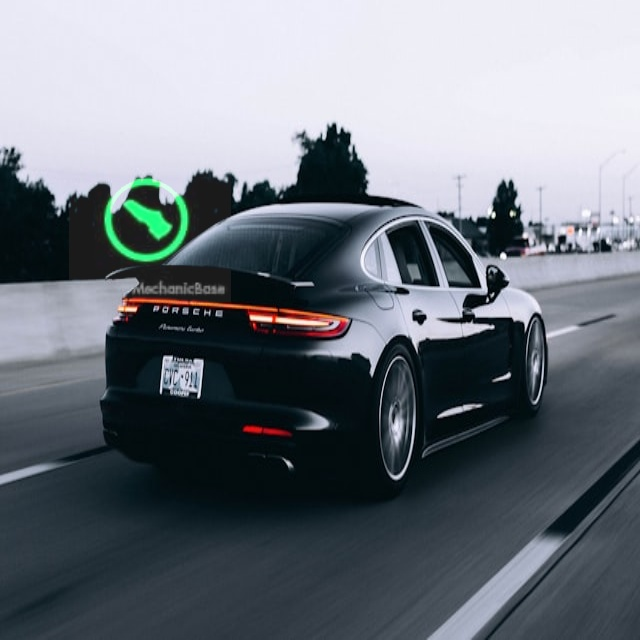symbol: (69, 140, 231, 302), (373, 72, 497, 196)
